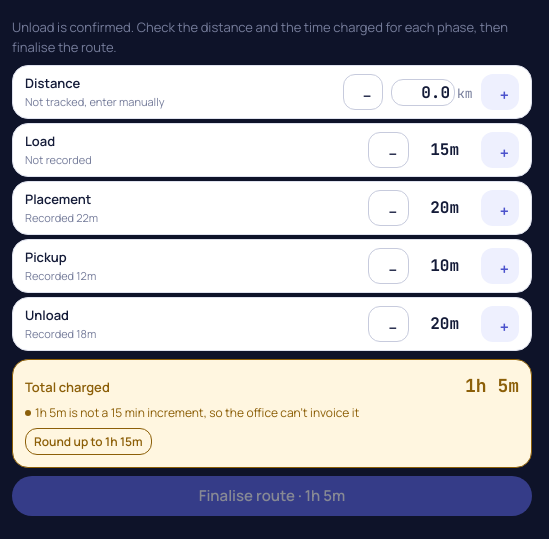
Test: AdministratorFinalisePanel › refreshes the Route but shows the error when only the audit entry fails
Click the button "Round up to 1h 15m".
click(88, 441)  # box top-left (25, 428), bottom-right (152, 455)
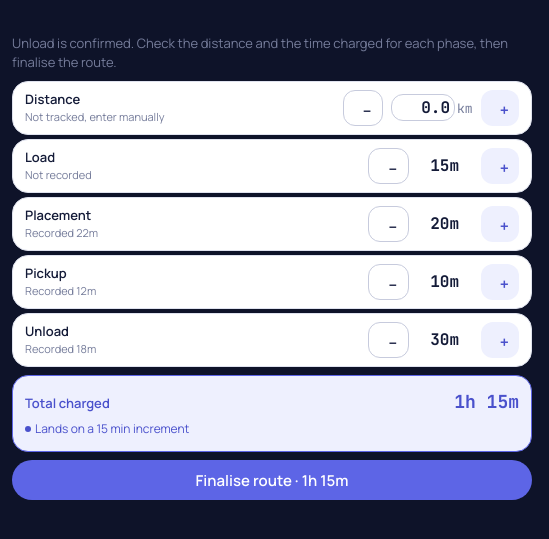
Replace the text in the field named "Distance (km)" with "37.5" at (423, 108), box top-left (391, 94), bottom-right (455, 121)
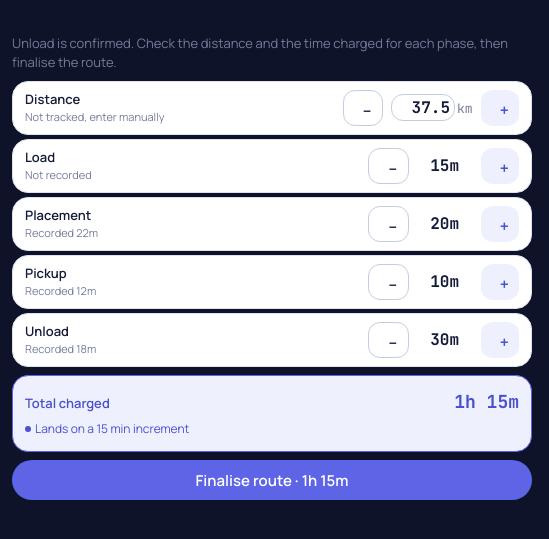
Click the button "Finalise route · 1h 15m".
click(272, 480)  # box top-left (12, 460), bottom-right (532, 500)
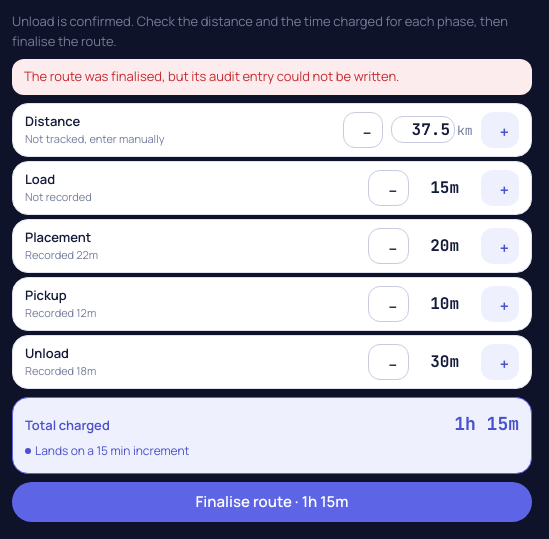
expect the message shows "its audit entry could not be written": met, box top-left (24, 67), bottom-right (399, 85)
